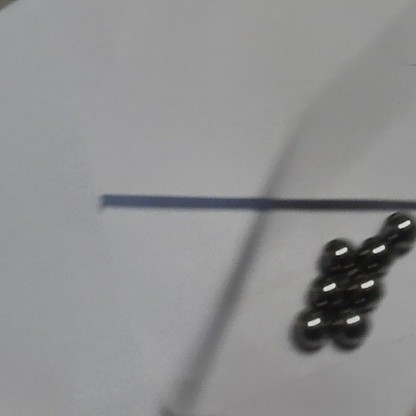ironball: (332, 307, 367, 346), (293, 311, 327, 348), (307, 272, 341, 308), (319, 238, 352, 270), (385, 210, 414, 246), (347, 276, 380, 306), (359, 236, 387, 271)
